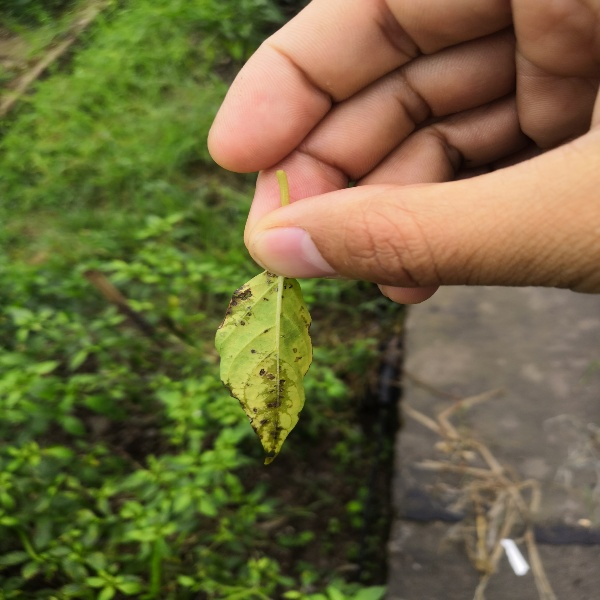Anthrax: (219, 271, 315, 458)
